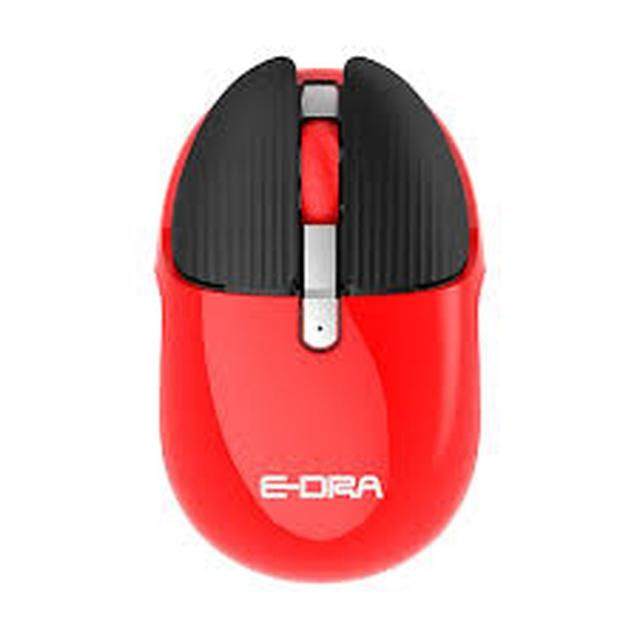mouse: (158, 34, 502, 593)
